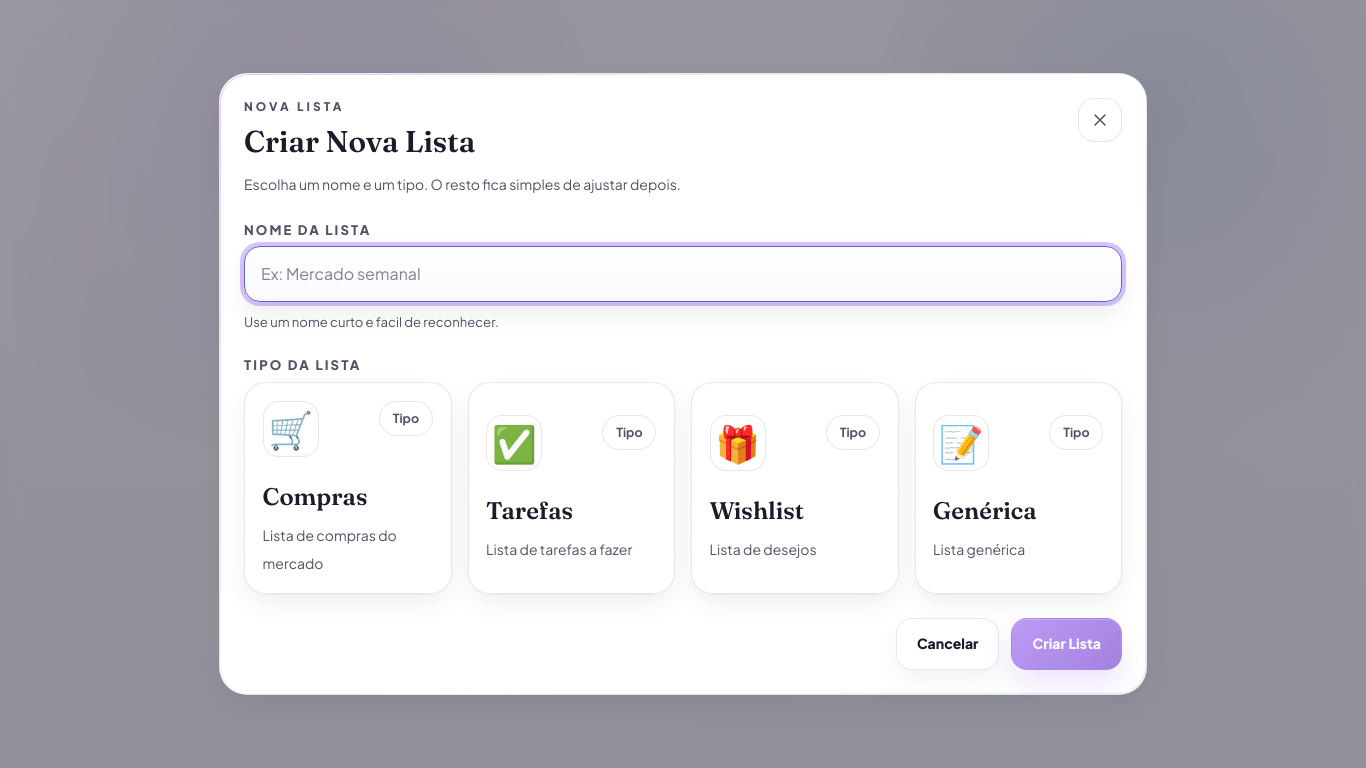
Scenario: CreateListModal › deve exibir erro da API quando o submit falhar
Step 1. Type "Lista com erro" into the field labelled "Nome da lista" → (683, 274), box [244, 246, 1122, 302]
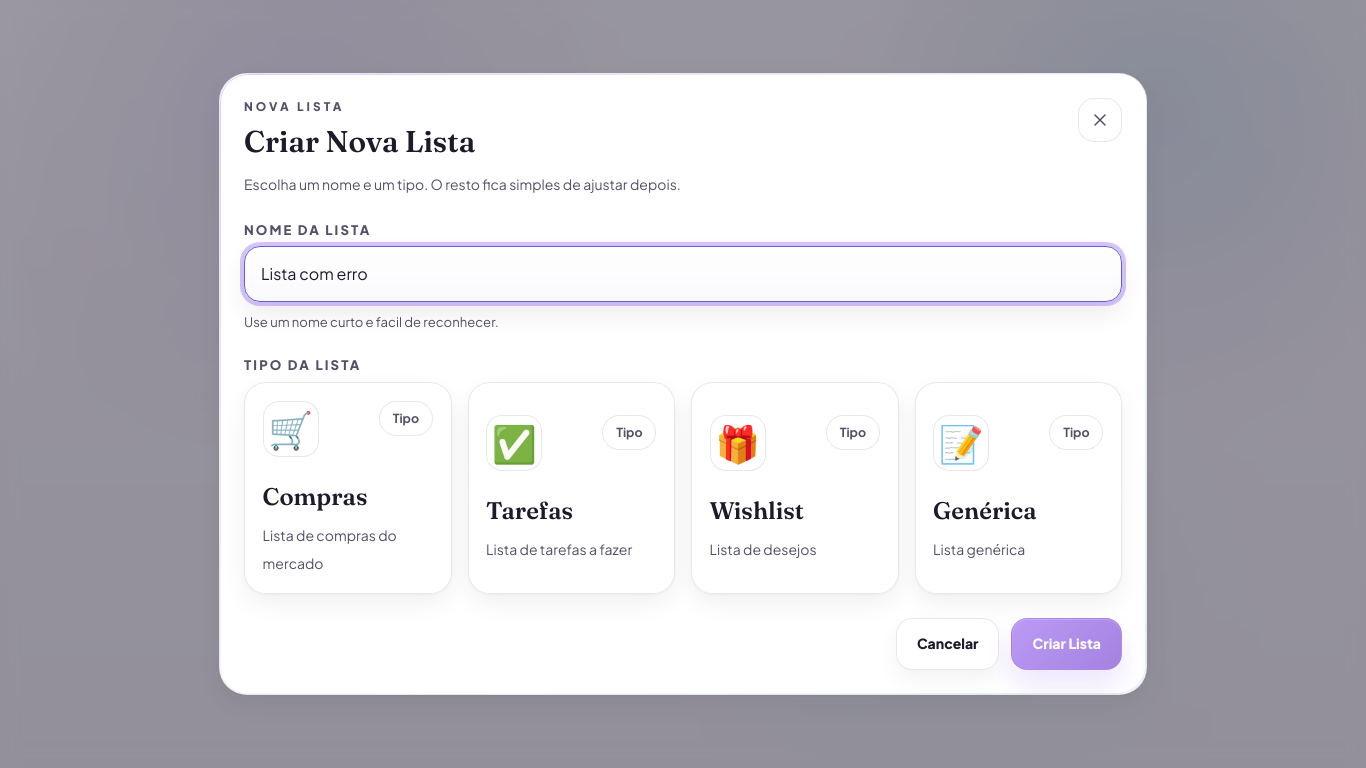
Step 2. Click the button "🛒 Tipo Compras Lista de compras do mercado" → (348, 488), box [244, 382, 452, 594]
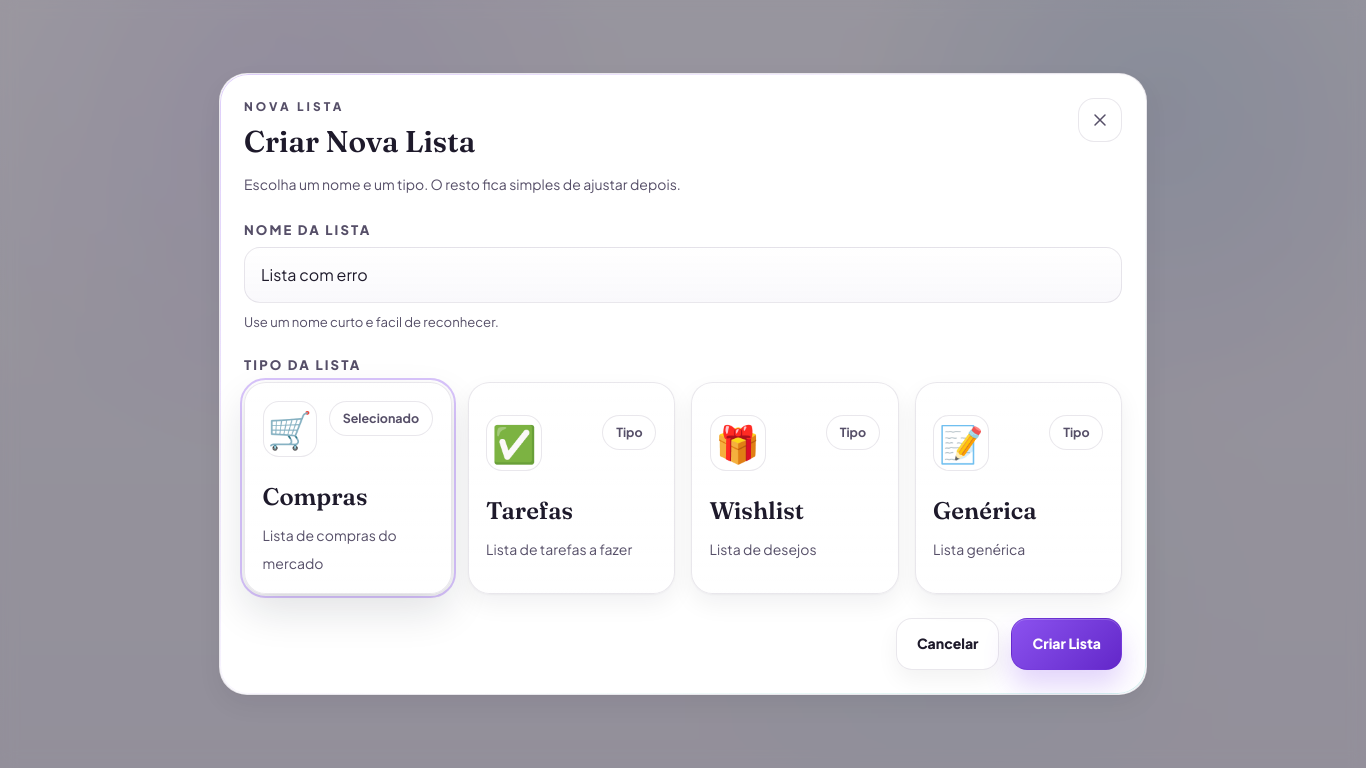
Step 3. Click the button "Criar Lista" → (1067, 644), box [1012, 618, 1122, 670]
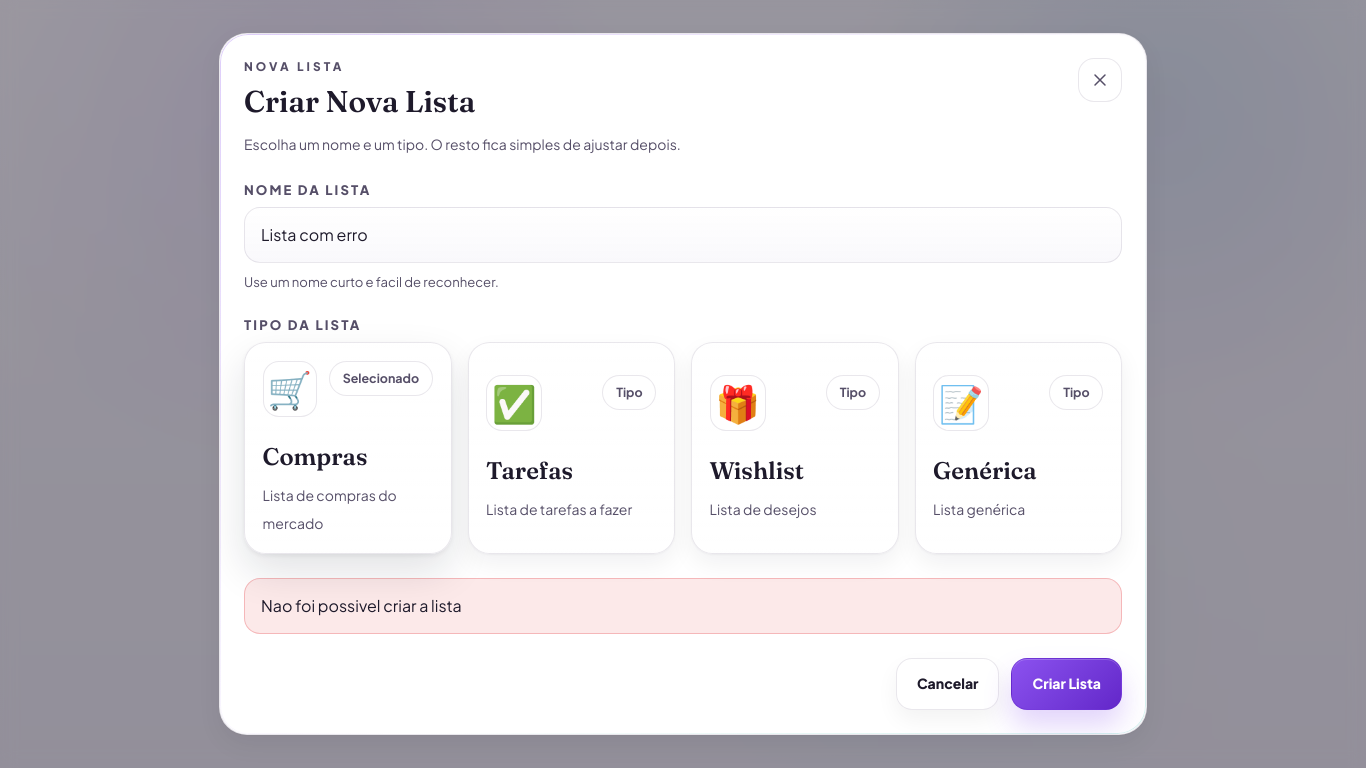
Result: the text "Nao foi possivel criar a lista" is shown at [244, 578, 1122, 634]
